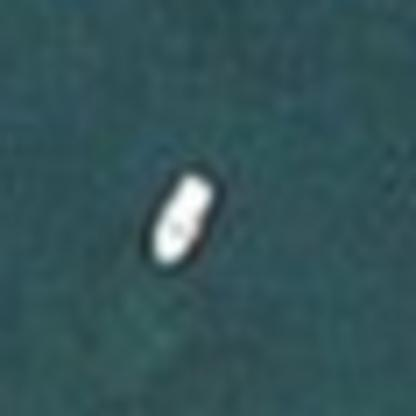ship: (132, 156, 233, 284)
